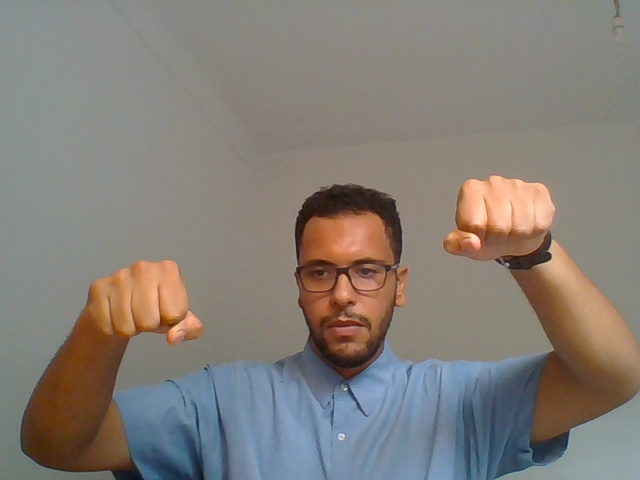yes: (430, 155, 579, 321), (56, 238, 216, 376)
